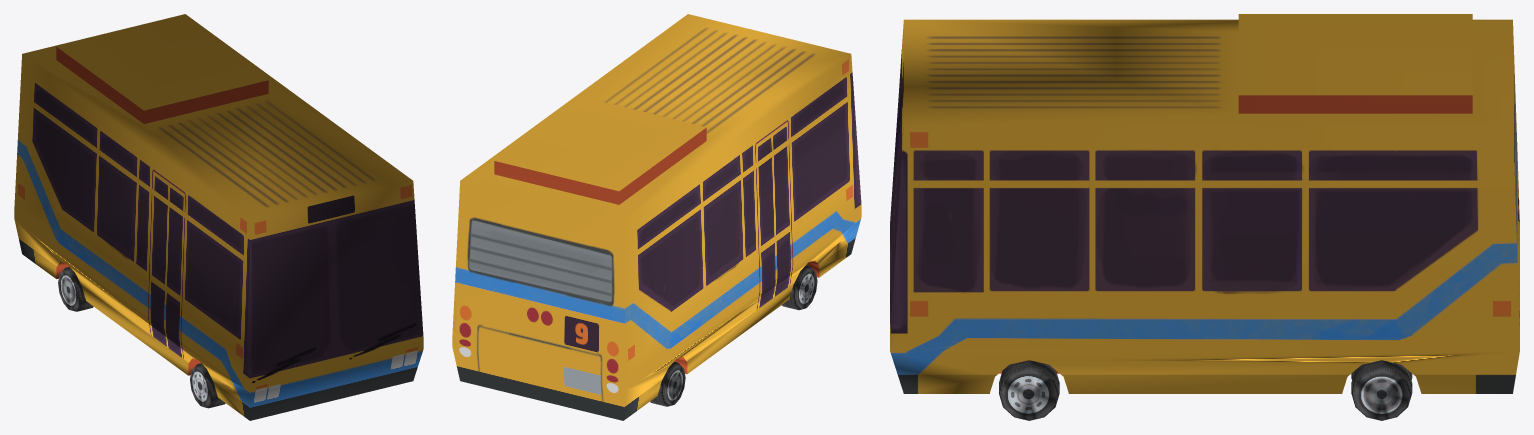
The model's file is low-poly-bus.gltf.
The picture shows the model from 3 angles, left to right: view 1: azimuth 30°, elevation 25°; view 2: azimuth 150°, elevation 25°; view 3: azimuth 270°, elevation 25°; orthographic projection. The views are drawn at different scales.
Parts seen in each view (by area): view 1: Low_Poly_Vehicles_bus; view 2: Low_Poly_Vehicles_bus; view 3: Low_Poly_Vehicles_bus.
Boxes of the visible parts, x1,y1,x2,y2 form: Low_Poly_Vehicles_bus: (14,14,423,420); Low_Poly_Vehicles_bus: (452,14,861,420); Low_Poly_Vehicles_bus: (890,14,1519,420).
Bounding box in the file's own units: 25.33 × 32.67 × 59.59.
Materials: 1 (1 with a texture image).
